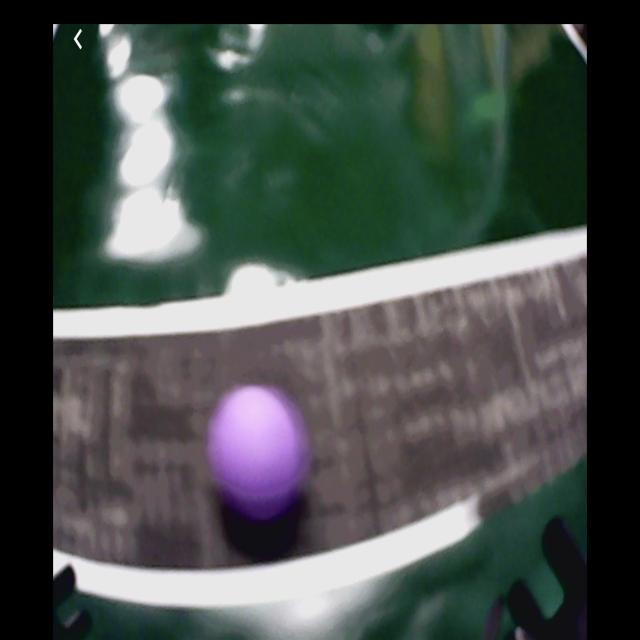ball: (216, 385, 302, 513)
